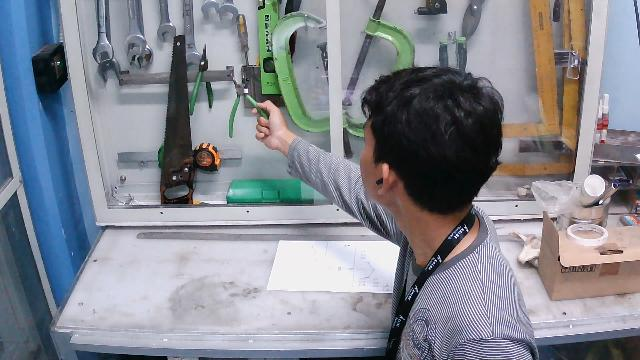tang_cucut_lancip_1: (224, 65, 273, 145)
